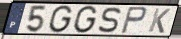5: (25, 4, 48, 34)
G: (72, 5, 99, 35), (47, 4, 74, 34)
K: (147, 8, 172, 35)
P: (120, 6, 149, 35)
S: (97, 6, 123, 34)
